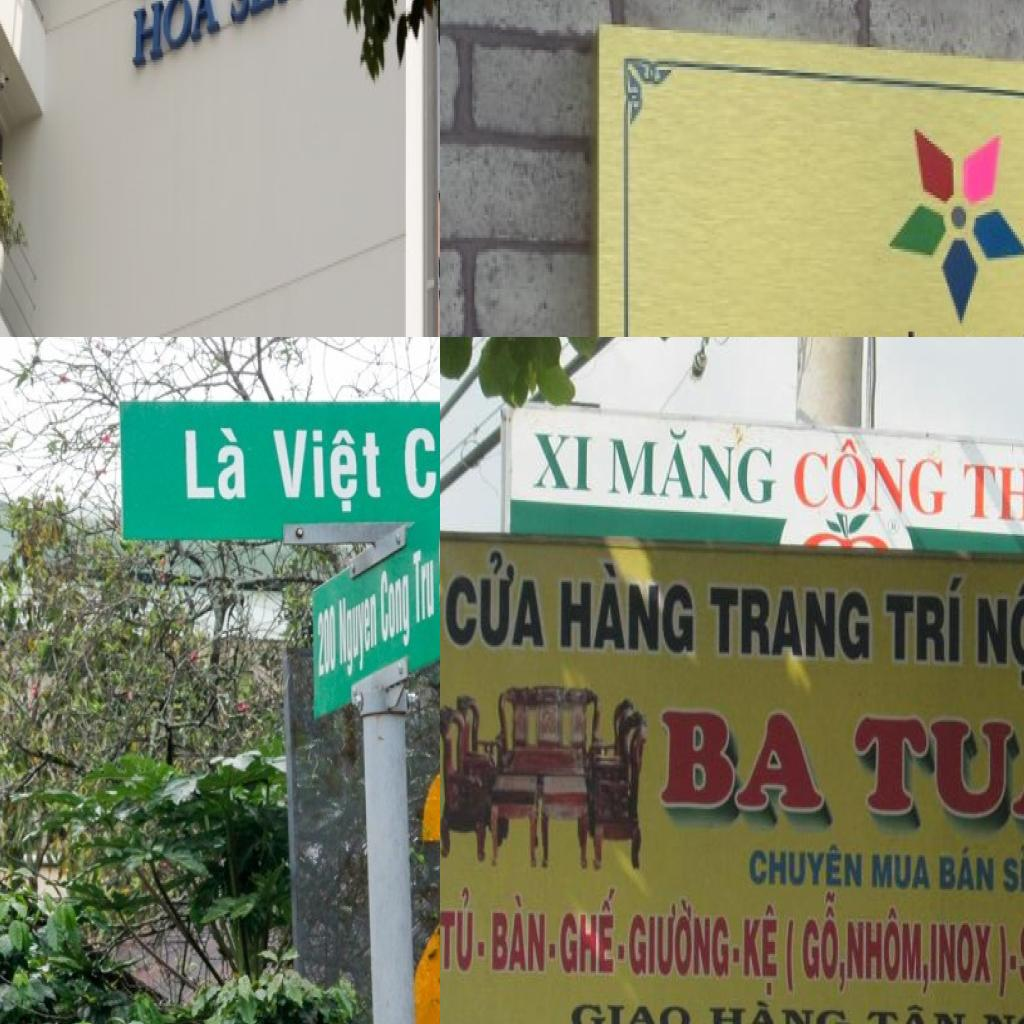text: (846, 679, 1024, 839), (650, 700, 832, 821), (554, 546, 697, 661), (702, 580, 876, 668), (606, 423, 778, 512), (793, 432, 947, 519), (440, 537, 546, 653), (269, 425, 385, 517), (880, 568, 970, 674), (629, 894, 732, 983), (129, 0, 222, 75), (744, 838, 866, 894), (556, 879, 620, 978), (846, 904, 924, 984), (972, 573, 1024, 692), (182, 425, 250, 505), (959, 454, 1024, 536), (487, 889, 546, 976), (801, 889, 847, 987), (530, 427, 598, 493), (929, 920, 993, 988), (337, 586, 380, 686), (709, 995, 853, 1024), (740, 901, 782, 1000), (563, 993, 693, 1024), (378, 559, 414, 660), (938, 838, 999, 896), (440, 882, 477, 976), (402, 421, 440, 503), (869, 848, 935, 891), (864, 1000, 968, 1024), (410, 544, 438, 626), (314, 600, 338, 680), (783, 914, 801, 996), (1001, 837, 1024, 894), (994, 920, 1009, 1000), (436, 524, 440, 620), (921, 962, 930, 998), (839, 961, 847, 993)
